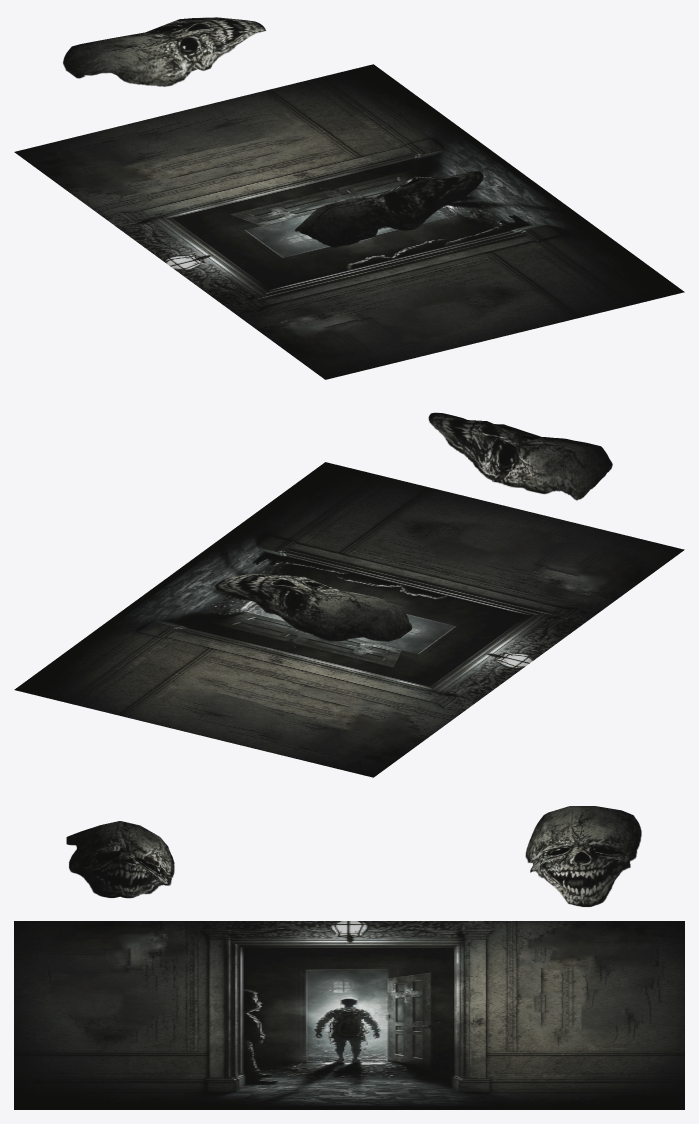
File: MonstersBackground3D.glb
3 renders of one model, top to bottom at view 1: azimuth 30°, elevation 25°; view 2: azimuth 150°, elevation 25°; view 3: azimuth 270°, elevation 25°, orthographic. The views are drawn at different scales.
Visible parts, largest first — view 1: MonstersBG3D, MonstersBG3DR, MonstersBG3DL; view 2: MonstersBG3D, MonstersBG3DL, MonstersBG3DR; view 3: MonstersBG3D, MonstersBG3DR, MonstersBG3DL.
Part boxes in pixels (x1=…): MonstersBG3D: x1=14, y1=64, x2=684, y2=379; MonstersBG3DR: x1=63, y1=17, x2=265, y2=86; MonstersBG3DL: x1=295, y1=171, x2=483, y2=247; MonstersBG3D: x1=14, y1=462, x2=684, y2=777; MonstersBG3DL: x1=428, y1=412, x2=612, y2=500; MonstersBG3DR: x1=215, y1=574, x2=412, y2=641; MonstersBG3D: x1=14, y1=921, x2=684, y2=1109; MonstersBG3DR: x1=525, y1=806, x2=641, y2=907; MonstersBG3DL: x1=66, y1=821, x2=174, y2=898.
Bounding box in the file's own units: 3.09 × 1.06 × 4.63.
Materials: 3 (3 with a texture image).
